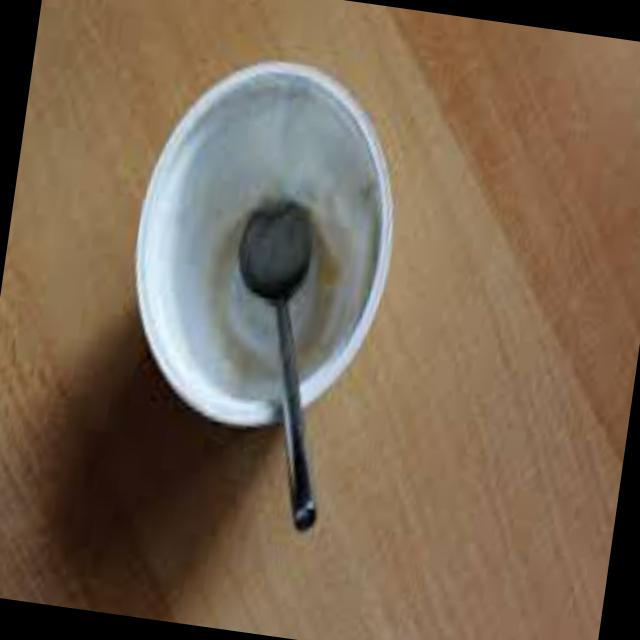GelasPlastik: (93, 26, 421, 489)
